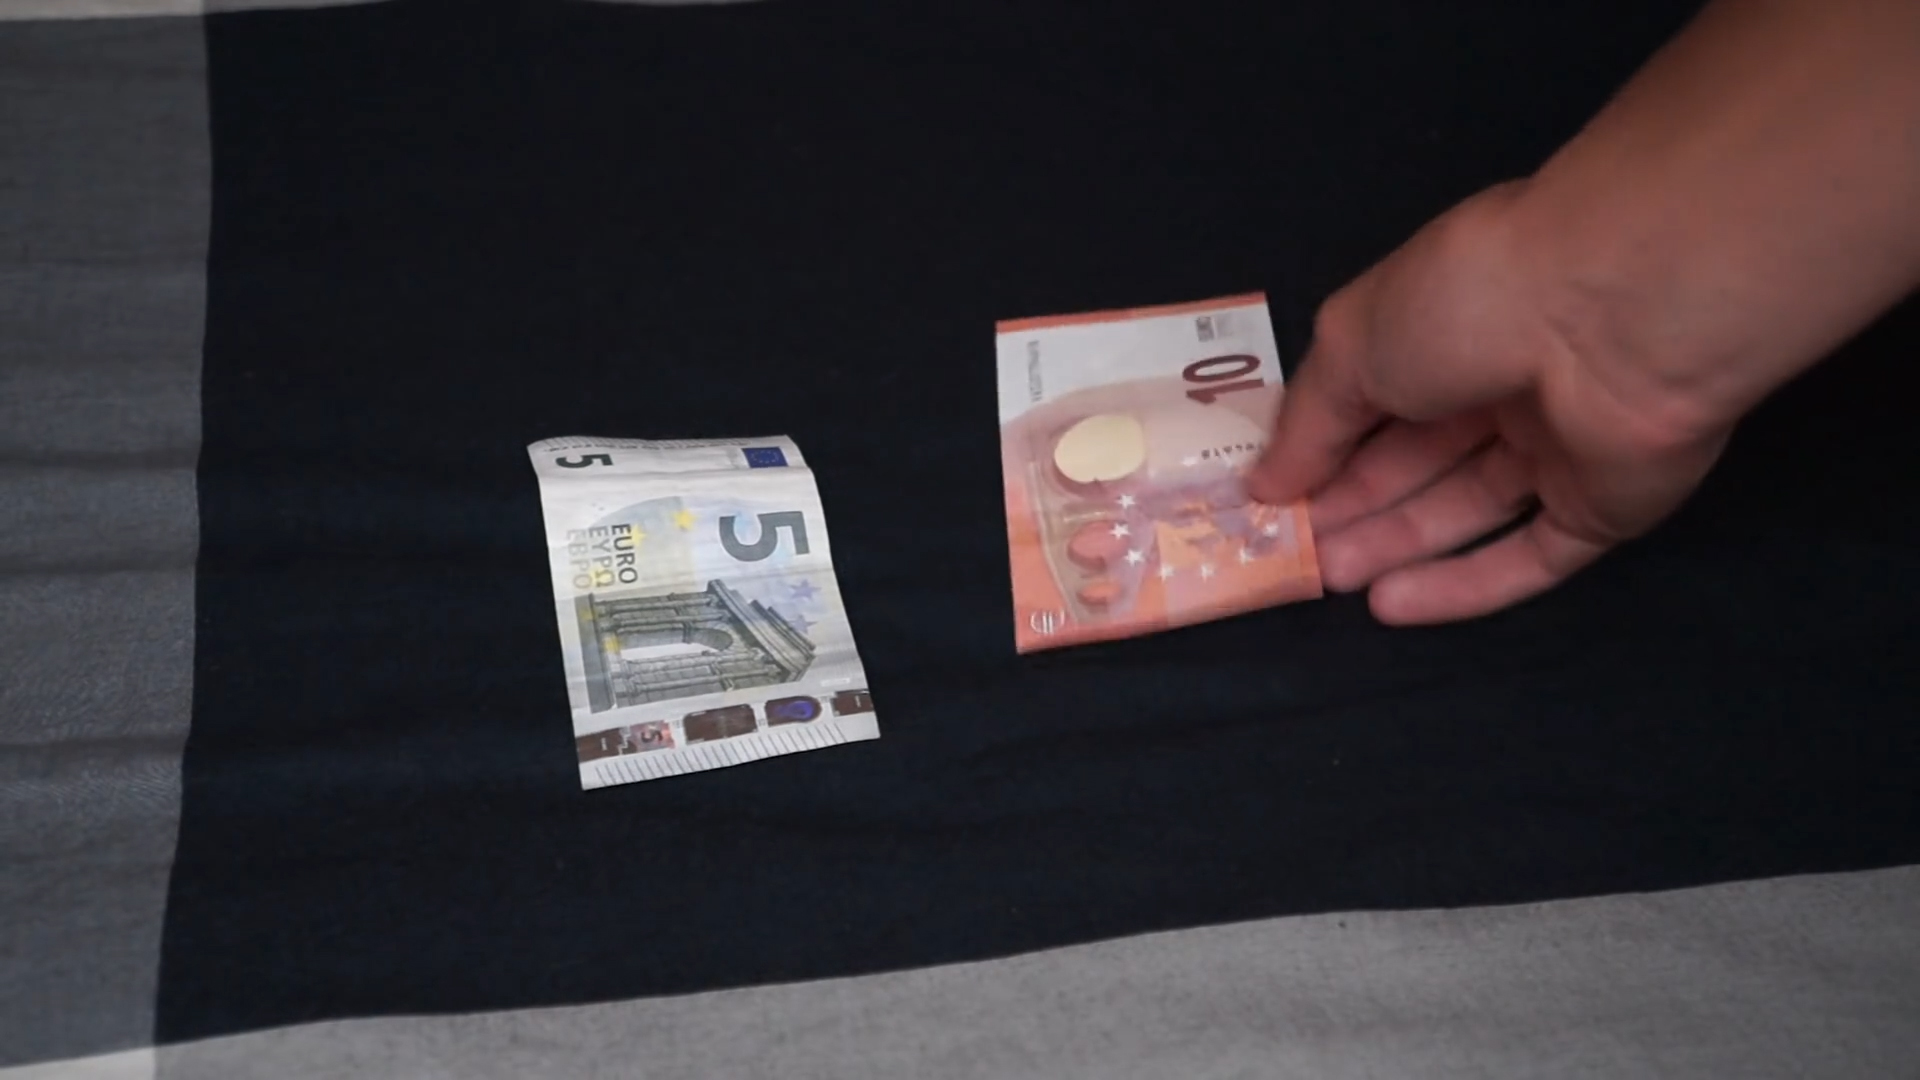billete: (527, 431, 885, 795), (993, 285, 1327, 658)
